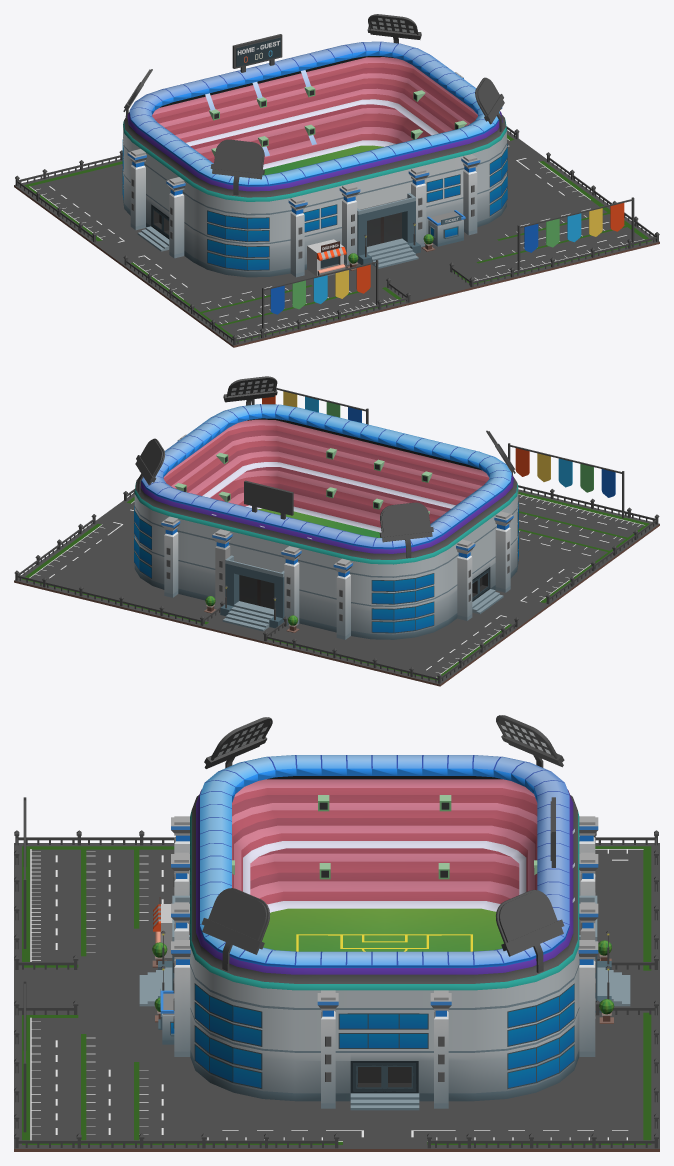
File: Stadium.fbx
3 renders of one model, top to bottom at view 1: azimuth 30°, elevation 25°; view 2: azimuth 150°, elevation 25°; view 3: azimuth 270°, elevation 25°, orthographic. The views are drawn at different scales.
Parts seen in each view (by area): view 1: Stadium; view 2: Stadium; view 3: Stadium.
Boxes of the visible parts, x1,y1,x2,y2 form: Stadium: (14, 14, 659, 347); Stadium: (14, 376, 659, 686); Stadium: (14, 715, 659, 1151).
Bounding box in the file's own units: 28 × 7.95 × 25.
